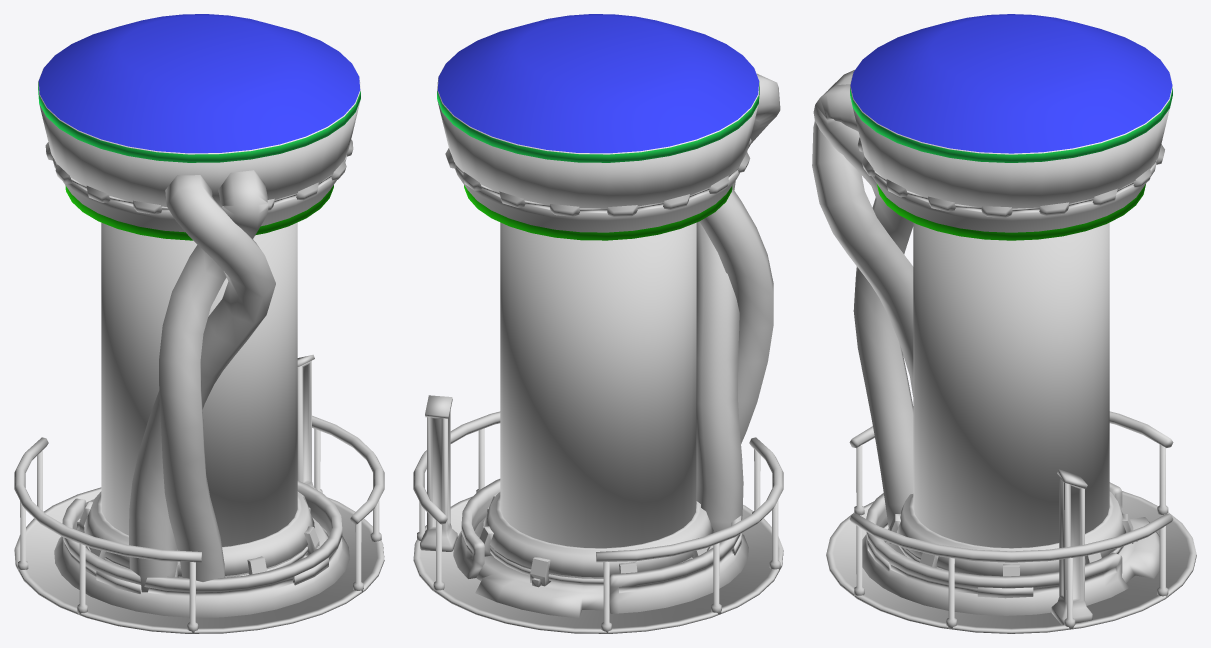
Rendered from Cuve 1.fbx.
3 renders of one model, left to right at view 1: azimuth 30°, elevation 25°; view 2: azimuth 150°, elevation 25°; view 3: azimuth 270°, elevation 25°, orthographic.
Parts seen in each view (by area): view 1: cuve_cage, Chapeau, Vitre, Led haut; view 2: cuve_cage, Vitre, Chapeau, Led haut; view 3: cuve_cage, Vitre, Chapeau, Led haut.
Boxes of the visible parts, box(x1,y1,x2,y2) form: cuve_cage: box(14, 100, 384, 633); Chapeau: box(38, 14, 360, 162); Vitre: box(101, 222, 297, 546); Led haut: box(45, 139, 353, 214); cuve_cage: box(413, 73, 783, 633); Vitre: box(500, 222, 696, 548); Chapeau: box(437, 14, 759, 162); Led haut: box(445, 138, 751, 217); cuve_cage: box(812, 70, 1196, 633); Vitre: box(913, 222, 1109, 548); Chapeau: box(850, 14, 1172, 162); Led haut: box(858, 137, 1164, 217).
Size of the model in its own units: 267 by 407 by 276.
